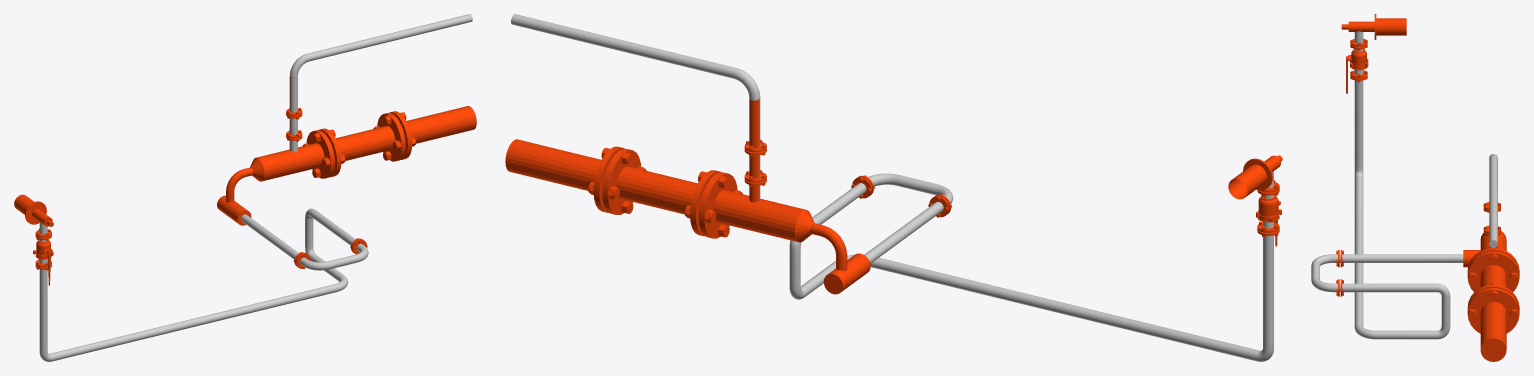
File: 大窑天然气.glb
3 views of the same model, side by side, from view 1: azimuth 30°, elevation 25°; view 2: azimuth 150°, elevation 25°; view 3: azimuth 270°, elevation 25° (orthographic). The views are drawn at different scales.
Parts seen in each view (by area): view 1: root; view 2: root; view 3: root.
Part boxes in pixels (box(x1,y1,x2,y2)): root: box(14, 14, 476, 361); root: box(505, 14, 1282, 361); root: box(1311, 14, 1519, 361).
Size of the model in its own units: 7.08 by 2.47 by 2.4.
